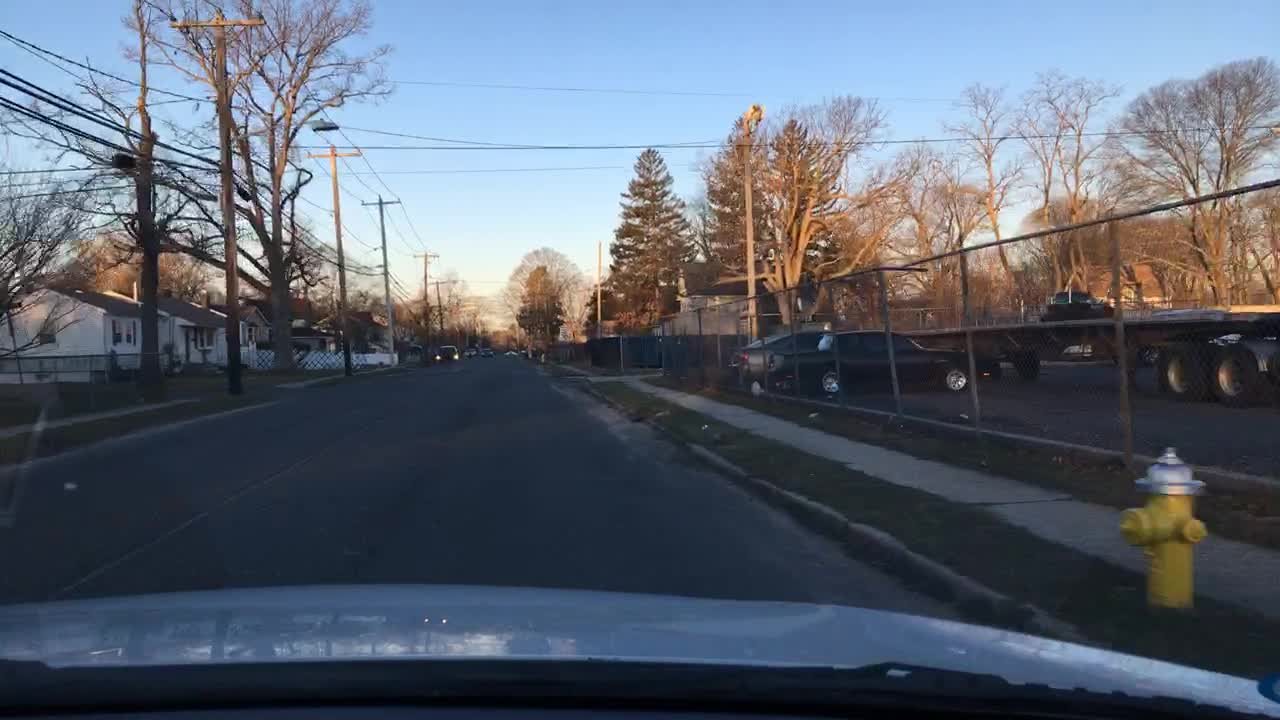car: (730, 331, 833, 393), (432, 344, 459, 363), (521, 346, 544, 360), (481, 346, 495, 357), (464, 346, 476, 357), (504, 347, 516, 357)
truck: (896, 308, 1278, 407), (765, 326, 975, 398)
